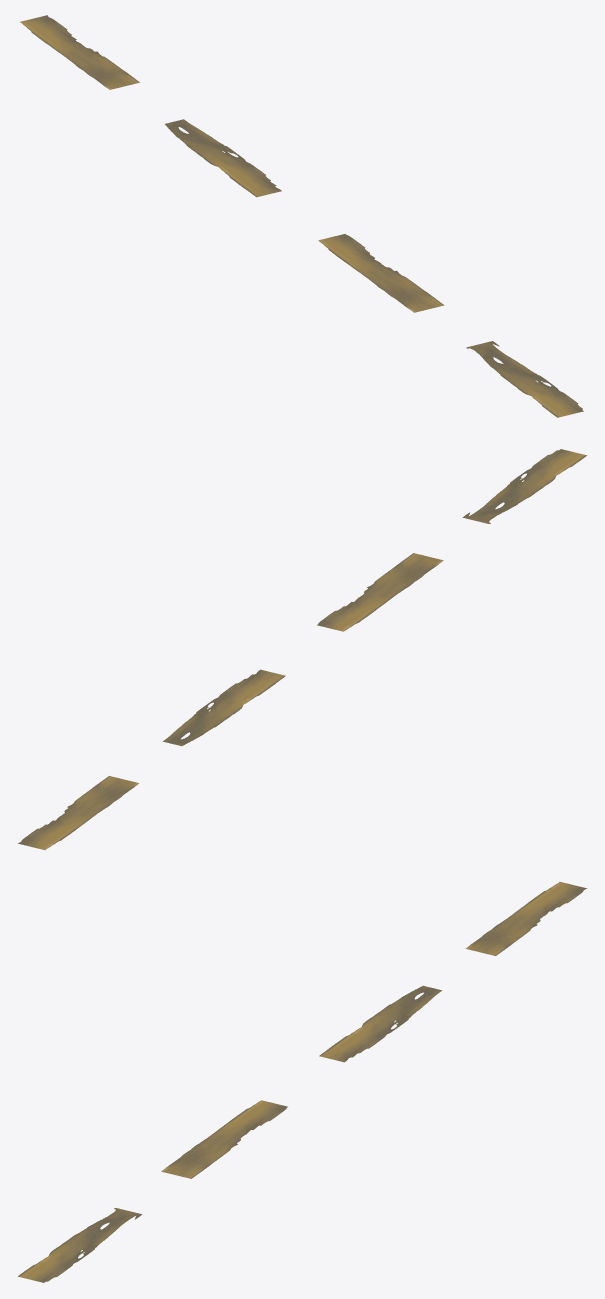
File: yellowline_03.fbx
The picture shows the model from 3 angles, top to bottom: view 1: azimuth 30°, elevation 25°; view 2: azimuth 150°, elevation 25°; view 3: azimuth 330°, elevation 25°; orthographic projection.
Parts seen in each view (by area): view 1: yellowline_03; view 2: yellowline_03; view 3: yellowline_03.
Part boxes in pixels (left/top/right/bottom): yellowline_03: left=20, top=15, right=583, bottom=417; yellowline_03: left=17, top=449, right=586, bottom=850; yellowline_03: left=18, top=881, right=587, bottom=1282.
Size of the model in its own units: 48.28 by 4.24e-05 by 1225.
Materials: 1 (1 with a texture image).
